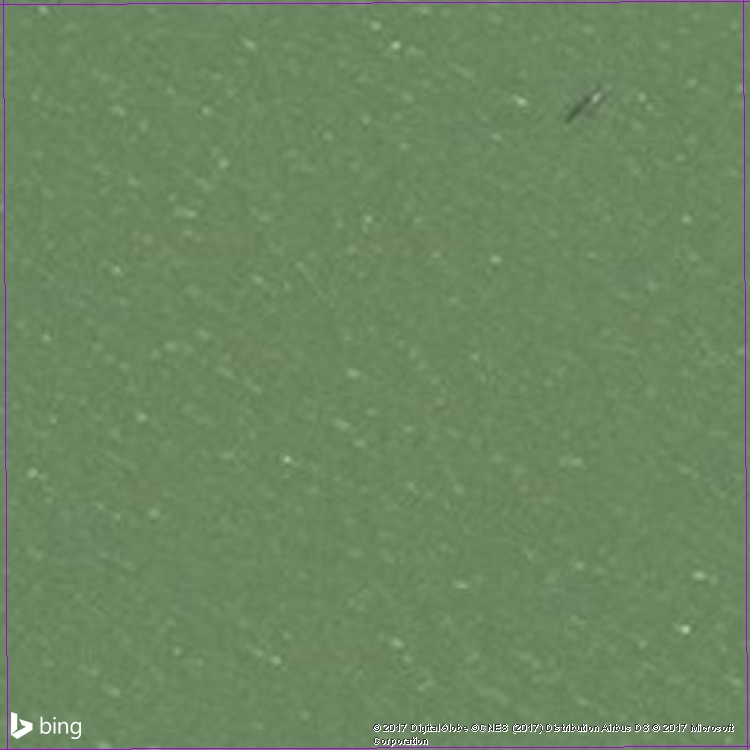boat: (558, 76, 618, 128)
